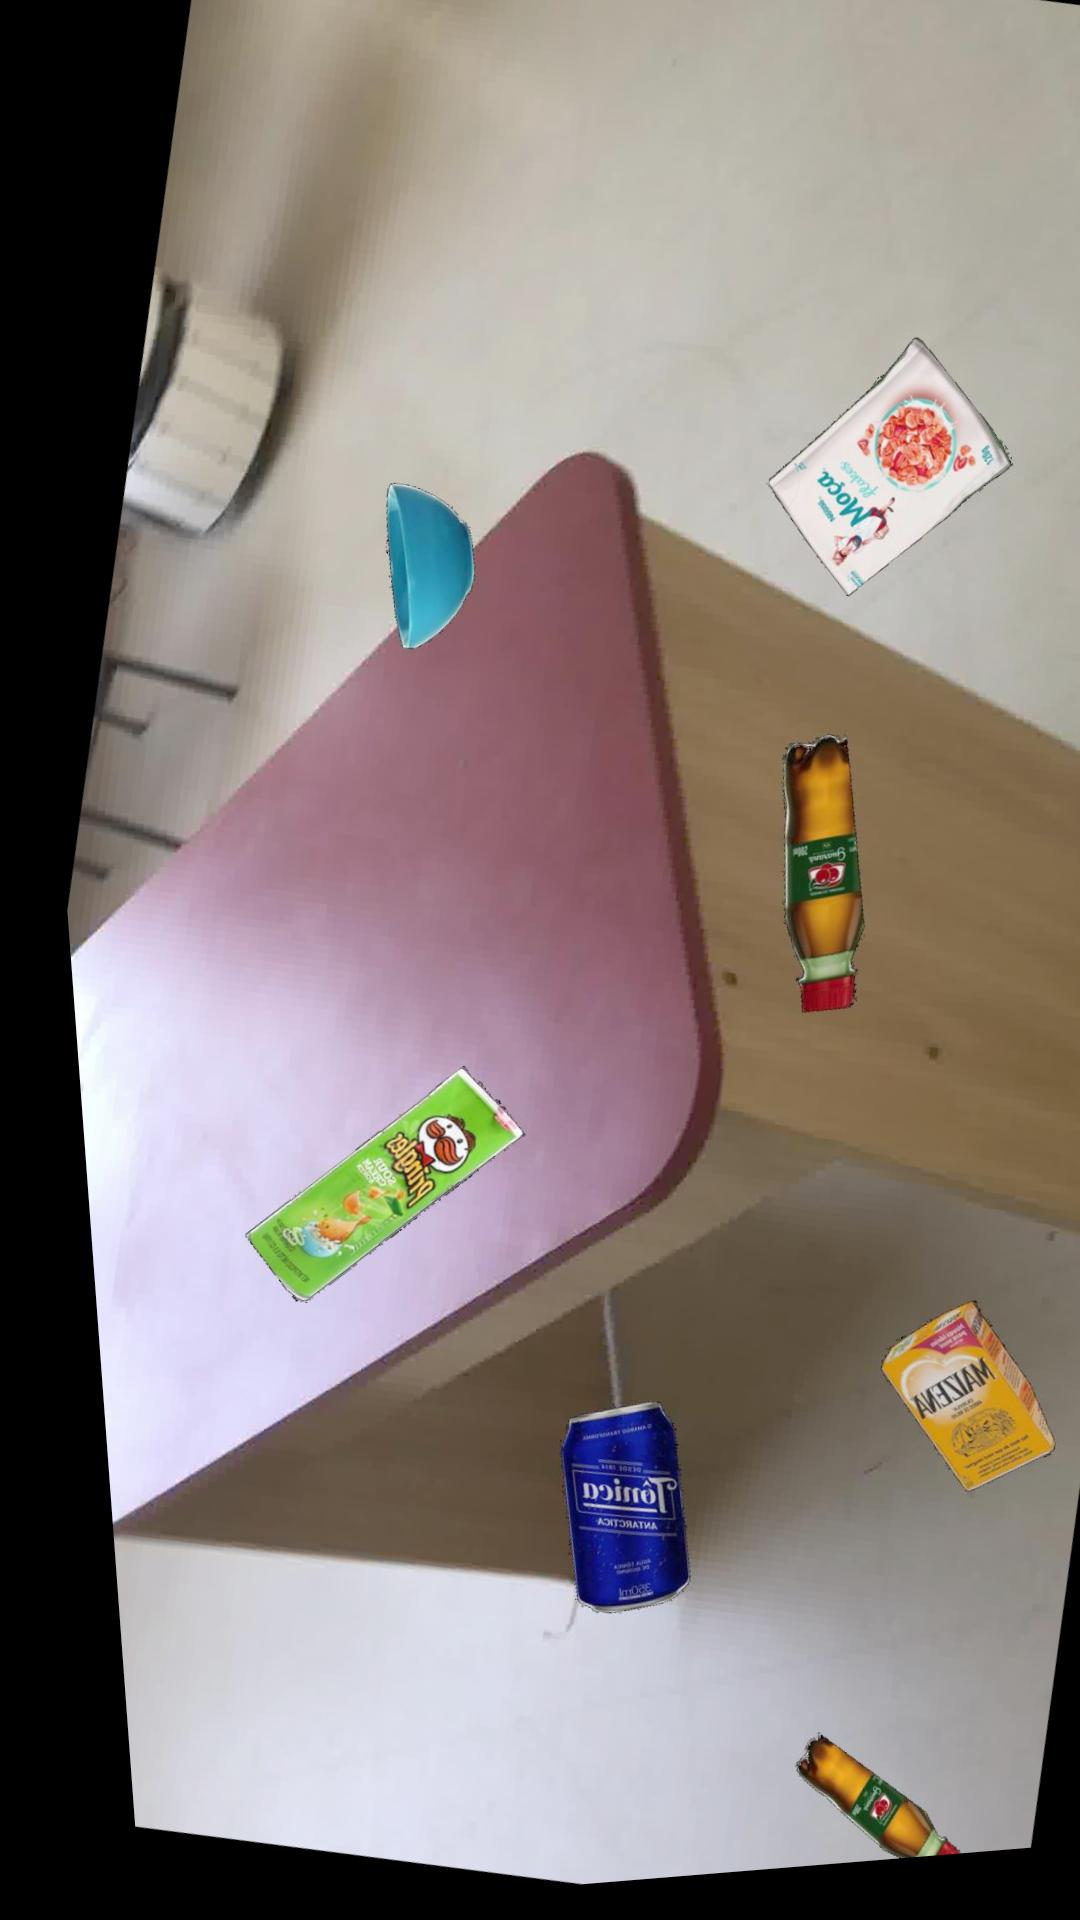bowl: (377, 489, 465, 657)
corn flakes: (760, 353, 1004, 611)
guarana: (769, 748, 849, 1026), (767, 1745, 930, 1871)
pringles: (225, 1075, 506, 1305)
tonic: (535, 1412, 665, 1622)
